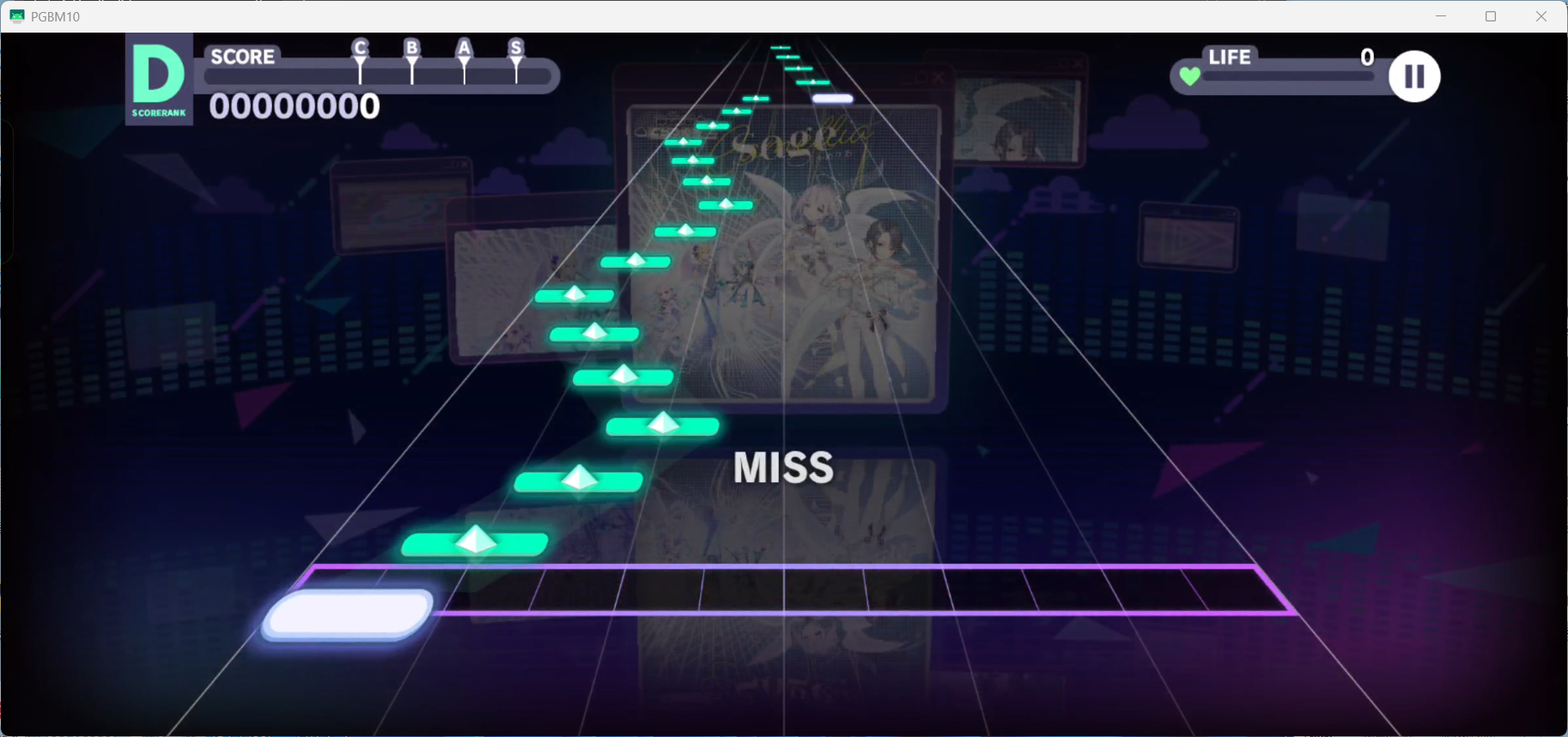sweep: (402, 523, 549, 557), (513, 463, 642, 493), (605, 409, 719, 438), (573, 363, 674, 386), (550, 321, 640, 341), (534, 284, 614, 304), (600, 251, 671, 268), (653, 222, 716, 237), (698, 197, 753, 210), (682, 175, 731, 185), (671, 154, 714, 165), (665, 137, 702, 146), (696, 121, 729, 130), (721, 106, 751, 114), (795, 79, 830, 85), (741, 94, 769, 101), (783, 65, 812, 70), (775, 54, 799, 58), (769, 45, 790, 49)
tap: (261, 588, 434, 642), (811, 94, 854, 104)
